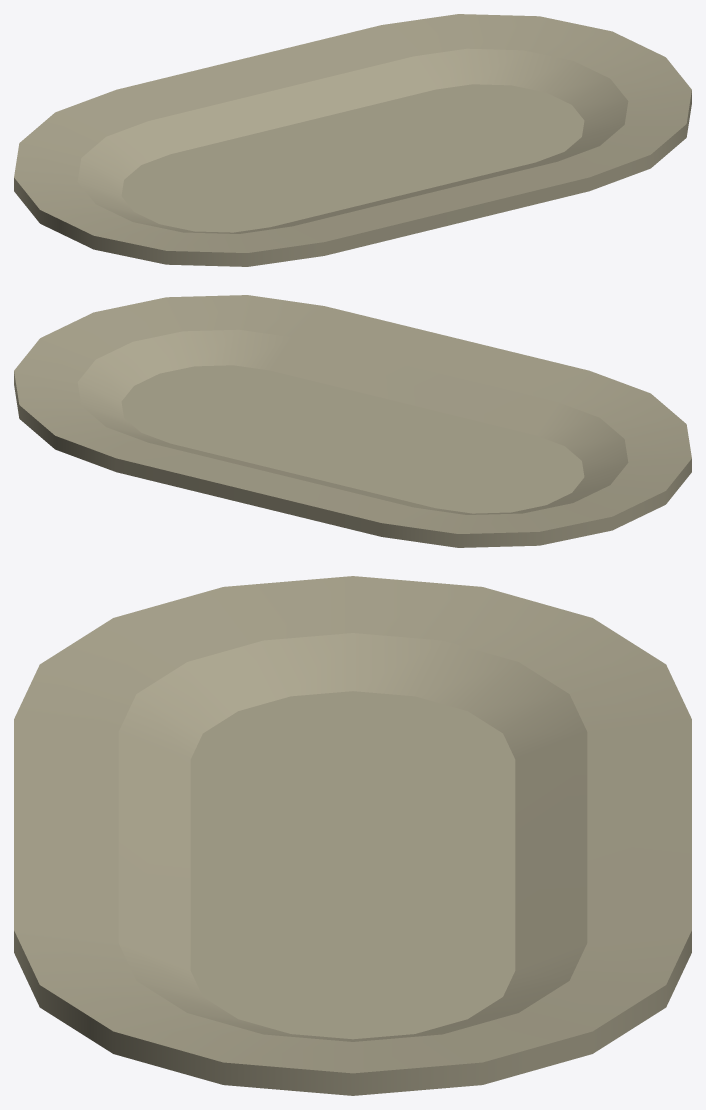
Rendered from PS_Plate06.fbx.
The picture shows the model from 3 angles, top to bottom: view 1: azimuth 30°, elevation 25°; view 2: azimuth 150°, elevation 25°; view 3: azimuth 270°, elevation 25°; orthographic projection. The views are drawn at different scales.
Visible parts, largest first — view 1: PS_Plate06; view 2: PS_Plate06; view 3: PS_Plate06.
Boxes of the visible parts, <box> form: PS_Plate06: <box>14,14,691,266</box>; PS_Plate06: <box>14,295,691,547</box>; PS_Plate06: <box>14,576,691,1095</box>.
Bounding box in the file's own units: 0.7304 × 0.0784 × 0.4207.
